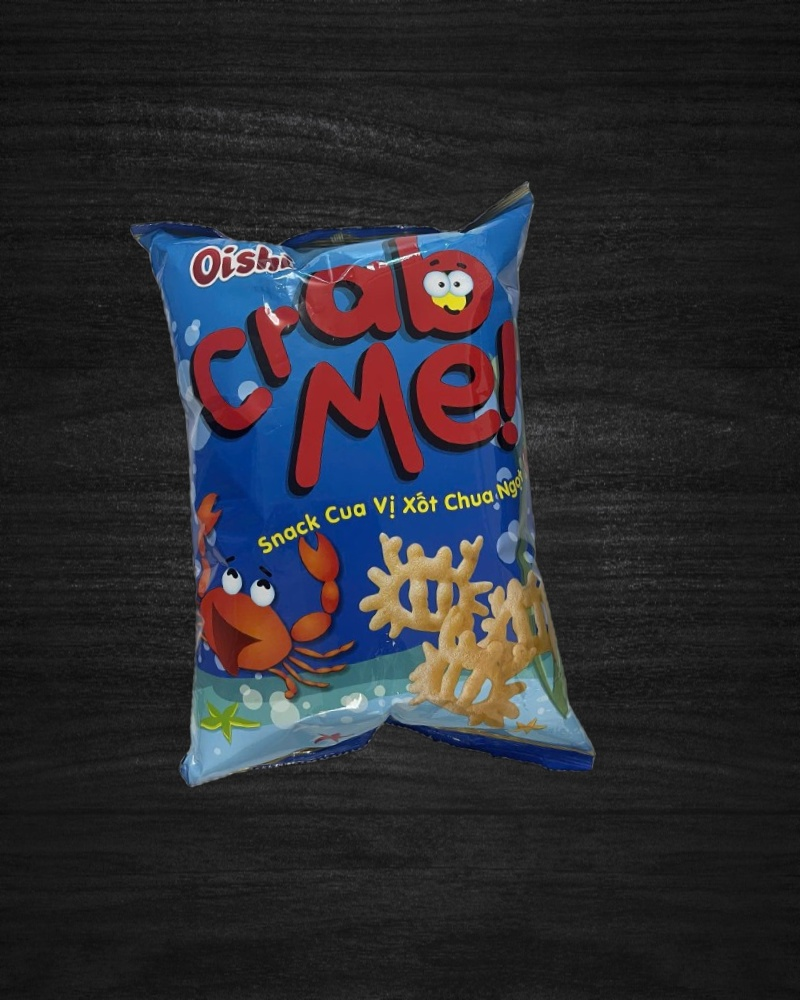Snack cua: (129, 180, 597, 801)
